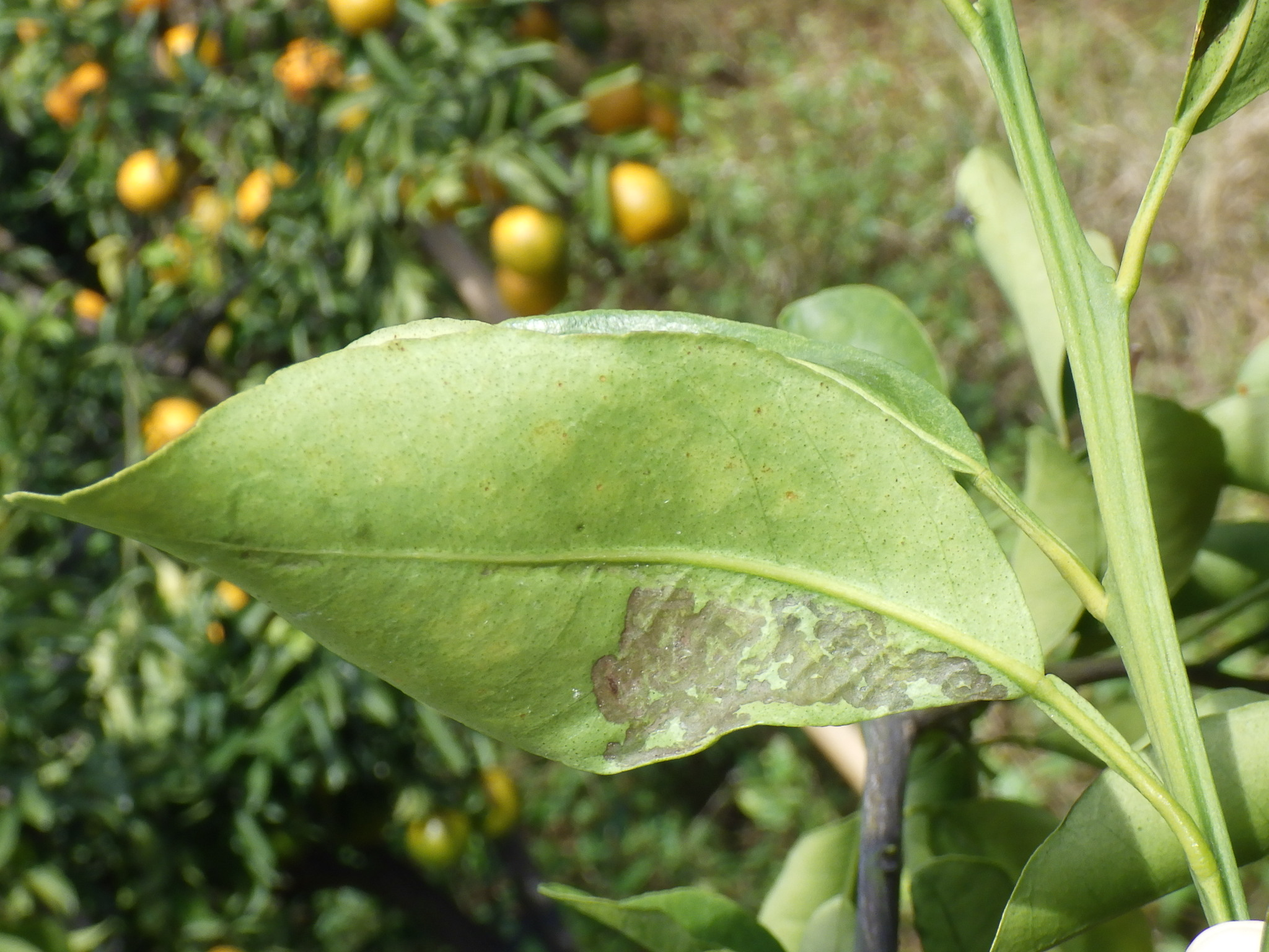Citrus_Leaf_Miner: (587, 586, 1007, 770)
